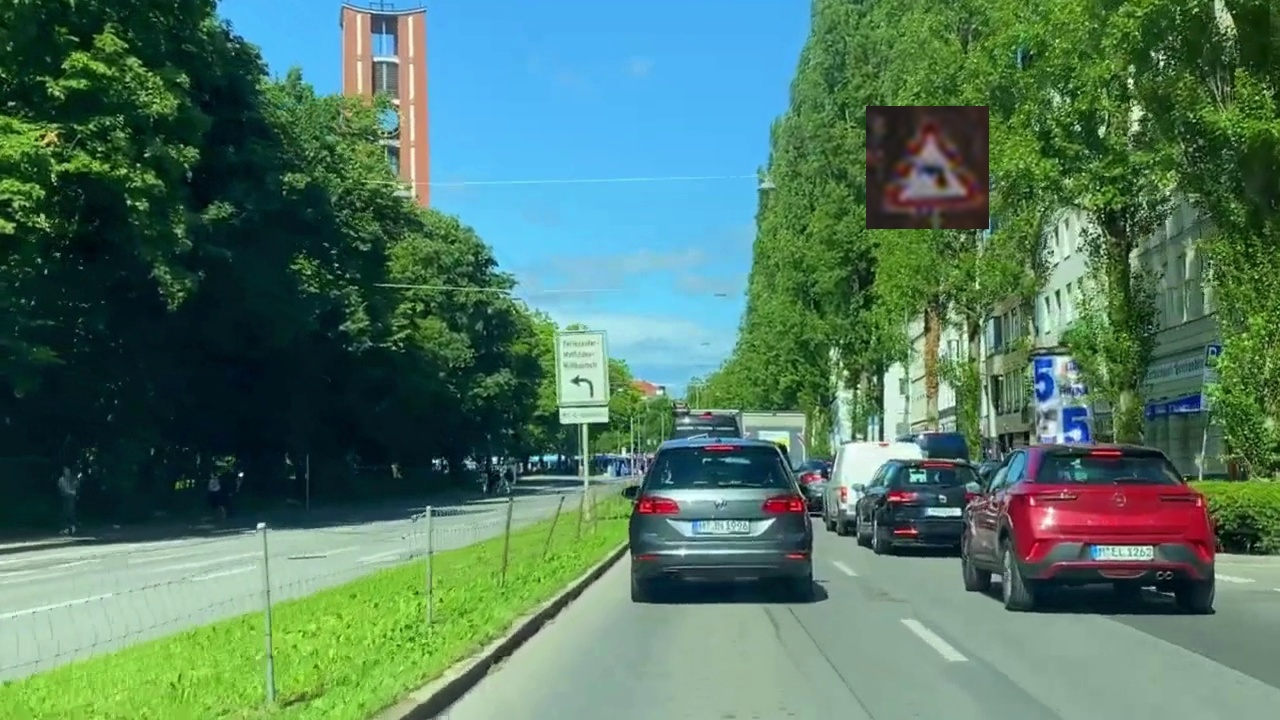Curve left: (866, 106, 989, 229)
